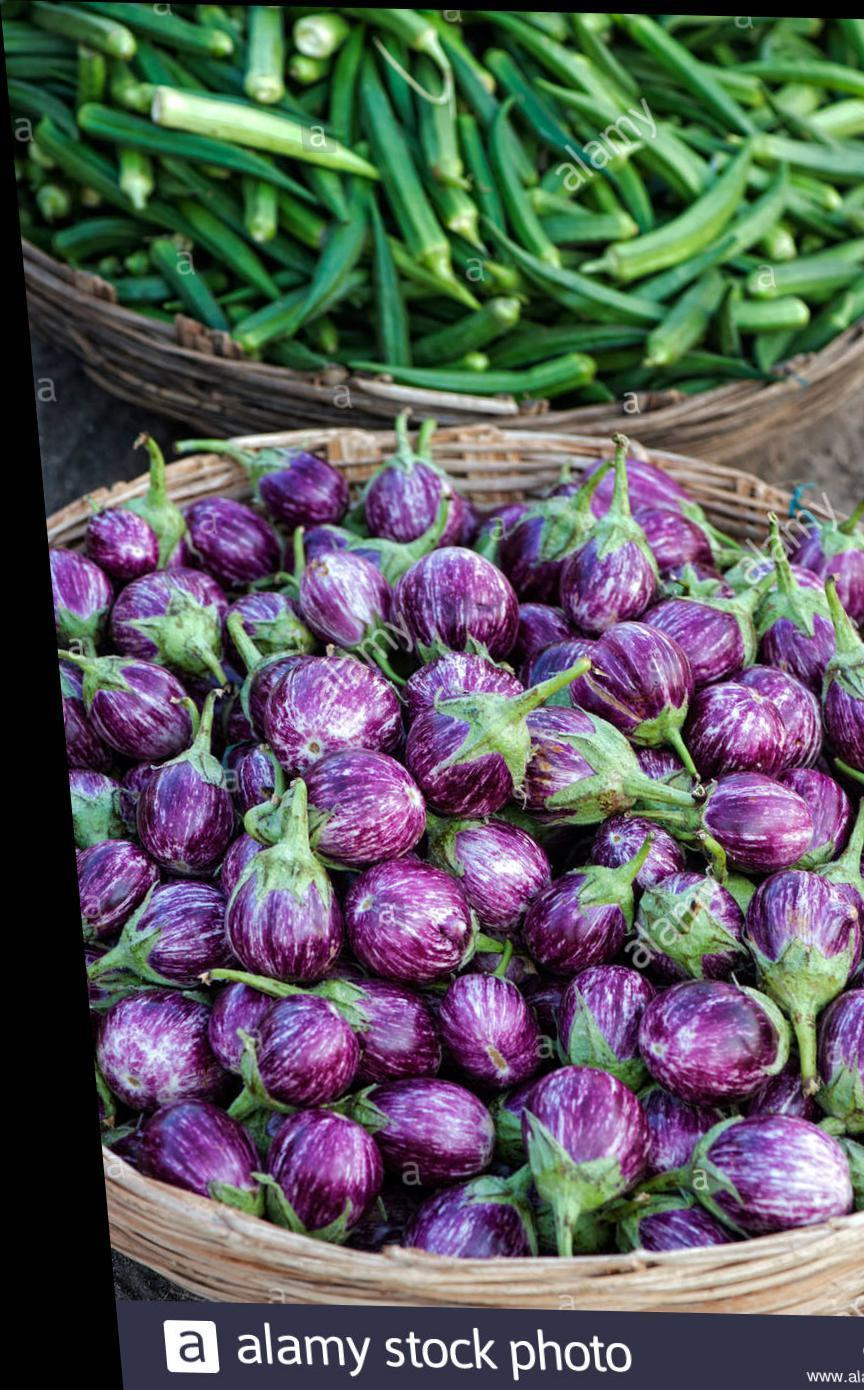eggplant: (84, 534, 858, 1202)
